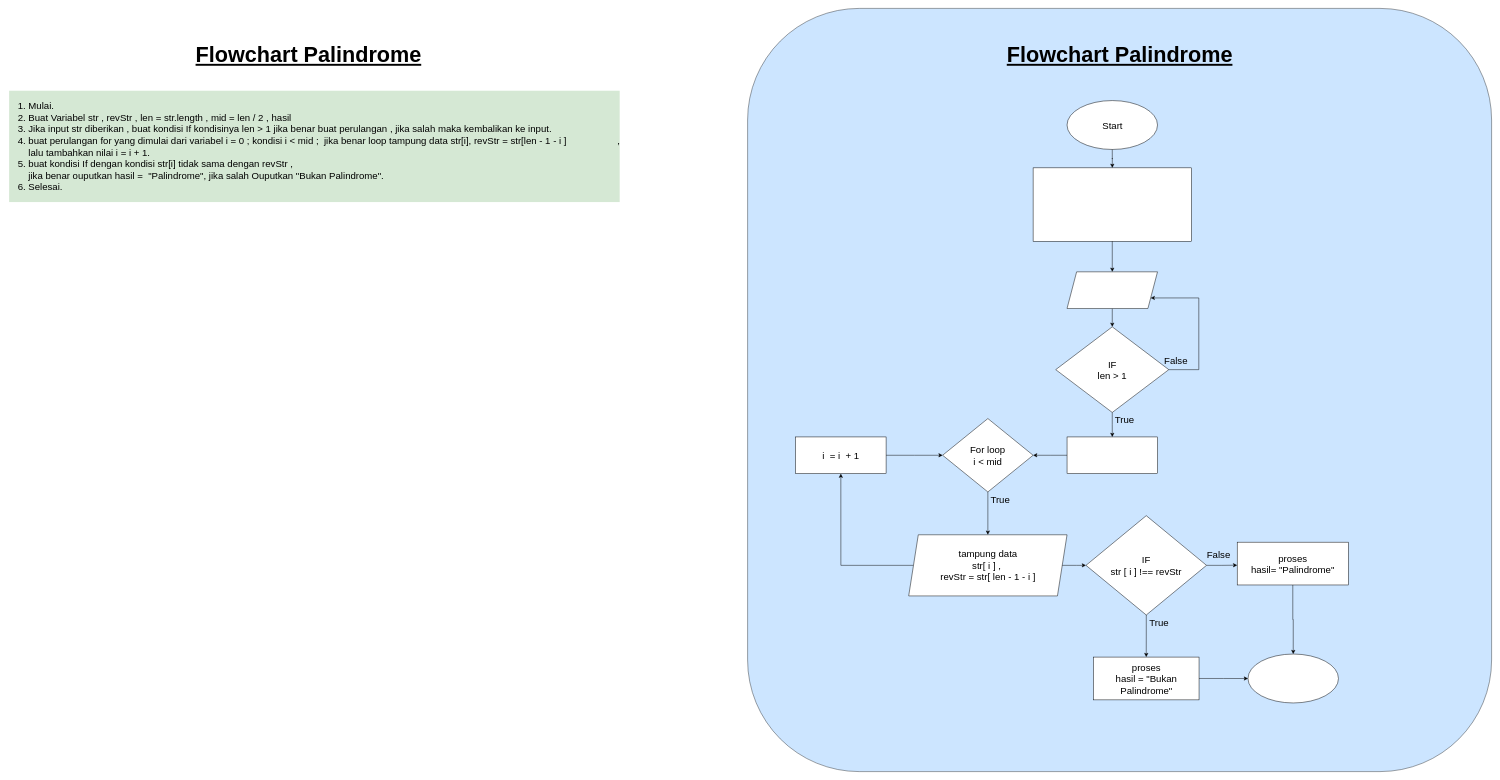
This 1500x780 diagram has some shape labels left out. The shapes that lost their labels are listed below. From the top down, each one's centre as x and y in pixels, then its label:
the point at 1112,204: Deklarasi Var str, revStr, len = str.length, mid = len / 2 hasil
the point at 1112,289: Input str
the point at 1112,455: Deklarasi var i = 0
the point at 1293,678: End
